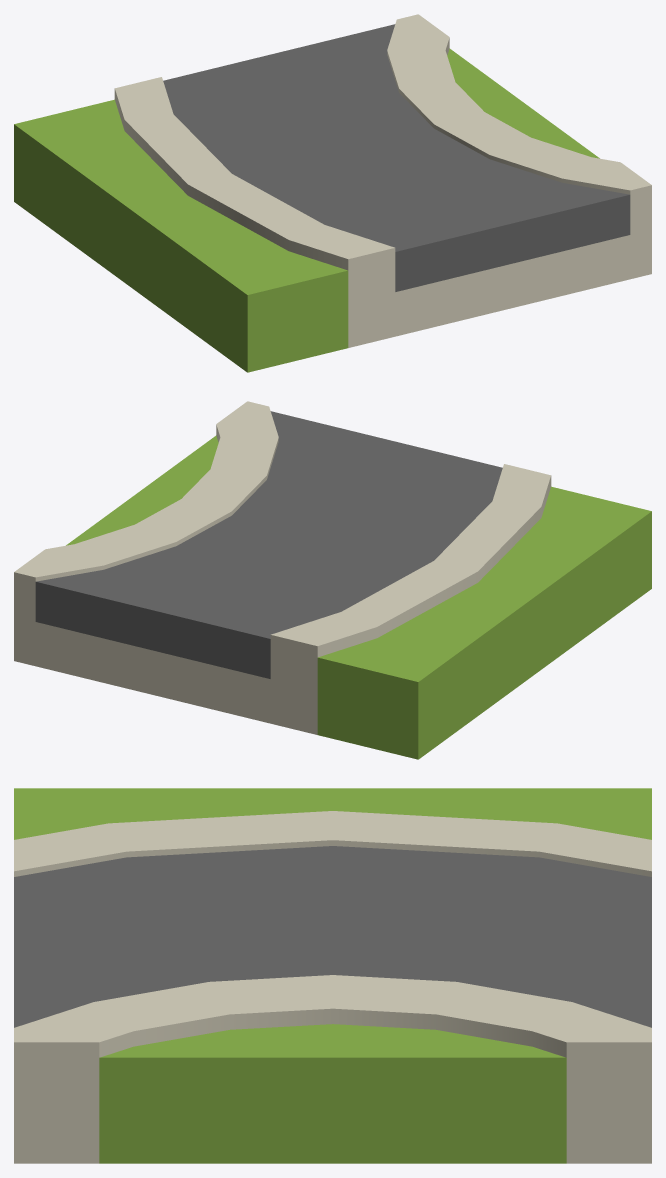
File: road-one-way-curve-sidewalk-grass-5.obj
3 views of the same model, one above another, from view 1: azimuth 30°, elevation 25°; view 2: azimuth 150°, elevation 25°; view 3: azimuth 270°, elevation 25° (orthographic). The views are drawn at different scales.
Visible parts, largest first — view 1: Mesh1_Group1_Model.047; view 2: Mesh1_Group1_Model.047; view 3: Mesh1_Group1_Model.047.
Part boxes in pixels (x1,y1,x2,y2): Mesh1_Group1_Model.047: (14, 14, 651, 372); Mesh1_Group1_Model.047: (14, 401, 651, 759); Mesh1_Group1_Model.047: (14, 788, 651, 1163).
Size of the model in its own units: 3 by 0.63 by 3.
